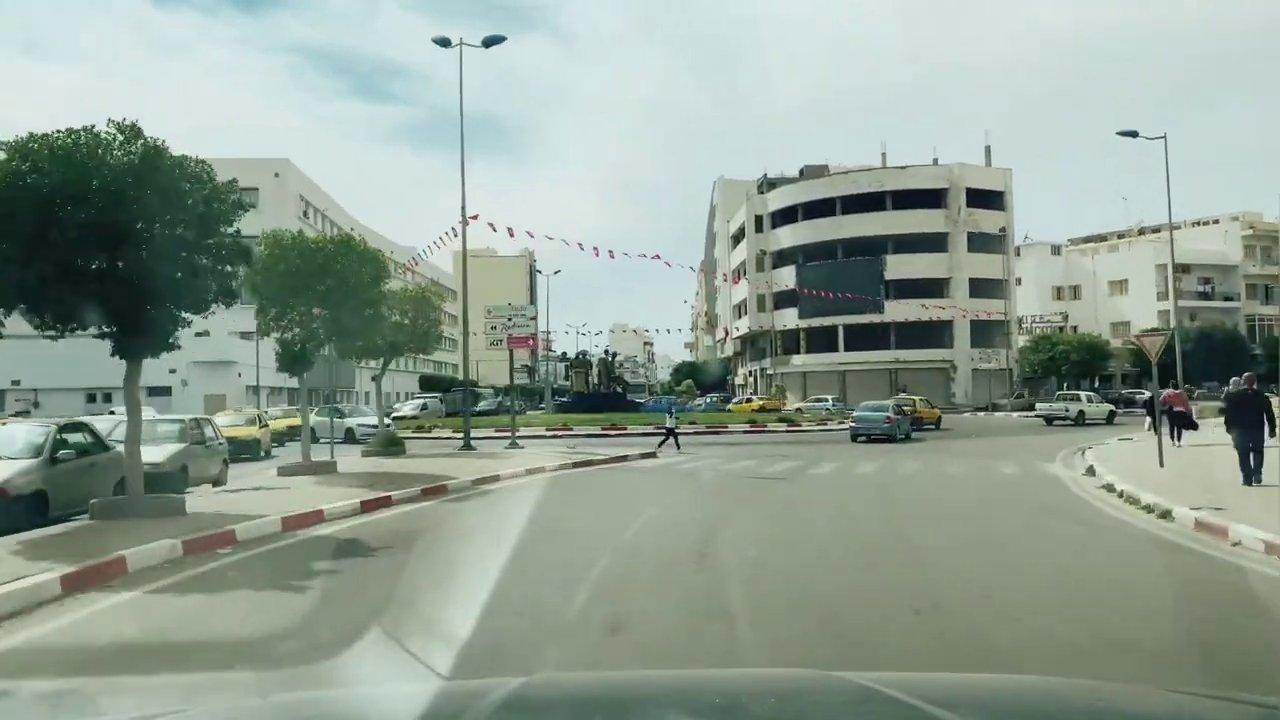give way: (1127, 332, 1178, 363)
